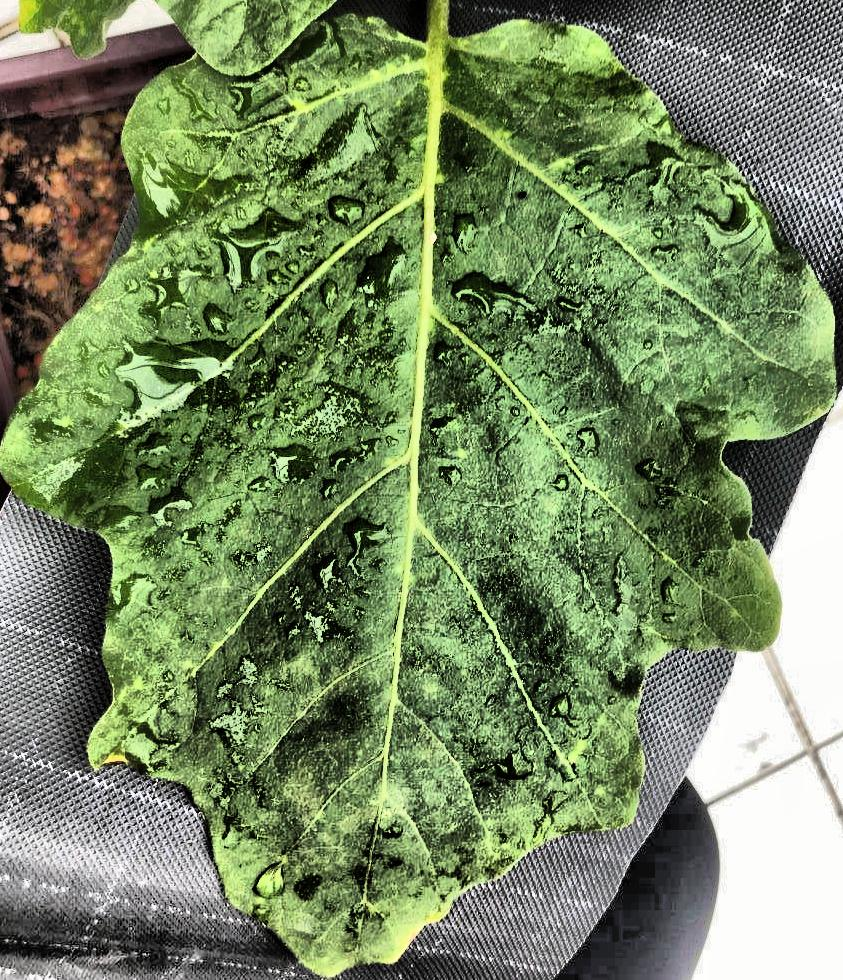HEALTHY: (1, 1, 843, 980)
